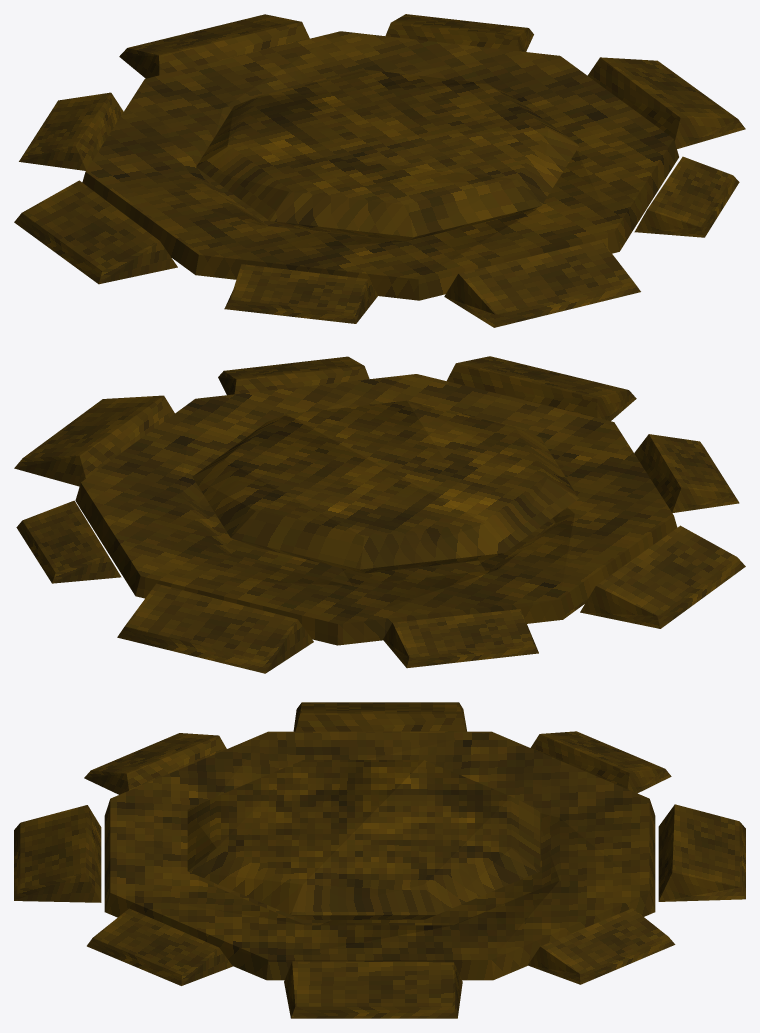
Rendered from Air Suit Platform.obj.
3 views of the same model, one above another, from view 1: azimuth 30°, elevation 25°; view 2: azimuth 150°, elevation 25°; view 3: azimuth 270°, elevation 25° (orthographic). The views are drawn at different scales.
Parts seen in each view (by area): view 1: Mesh_0062, Mesh_0063; view 2: Mesh_0062, Mesh_0063; view 3: Mesh_0062, Mesh_0063.
Boxes of the visible parts, x1,y1,x2,y2 form: Mesh_0062: (14, 14, 745, 327); Mesh_0063: (196, 69, 579, 240); Mesh_0062: (14, 356, 745, 673); Mesh_0063: (192, 400, 578, 573); Mesh_0062: (14, 702, 745, 1018); Mesh_0063: (187, 760, 540, 919).
Bounding box in the file's own units: 2.27 × 0.1445 × 2.27.
1 material, 1 textured.
